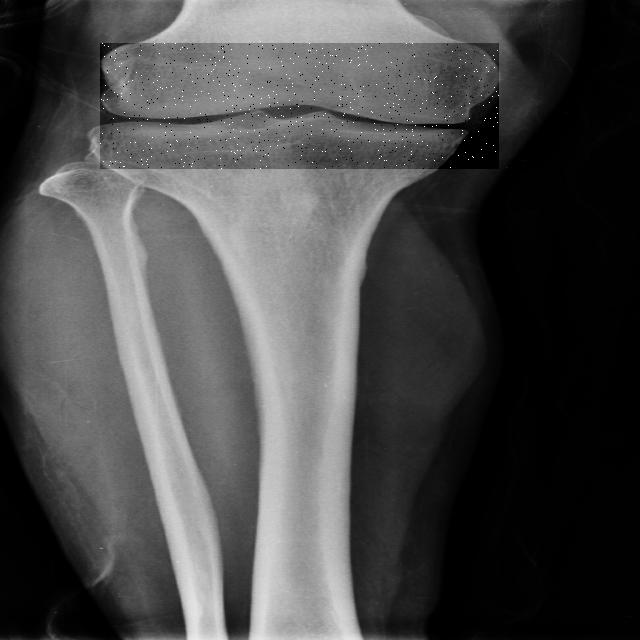normal: (100, 43, 499, 169)
